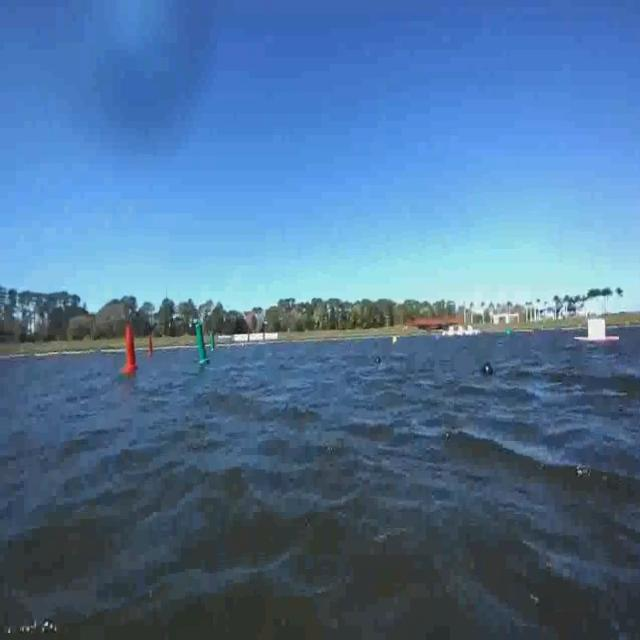black-buoy: (482, 360, 494, 378), (376, 357, 382, 364)
green-column-buoy: (195, 324, 211, 368), (210, 333, 216, 351)
red-column-buoy: (124, 324, 140, 374), (147, 335, 154, 359)
yellow-buoy: (391, 336, 398, 348)
